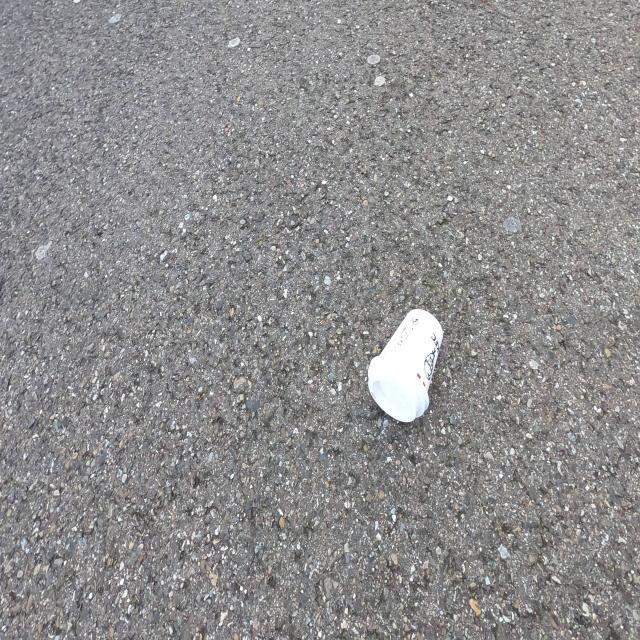Cup: (362, 304, 448, 426)
